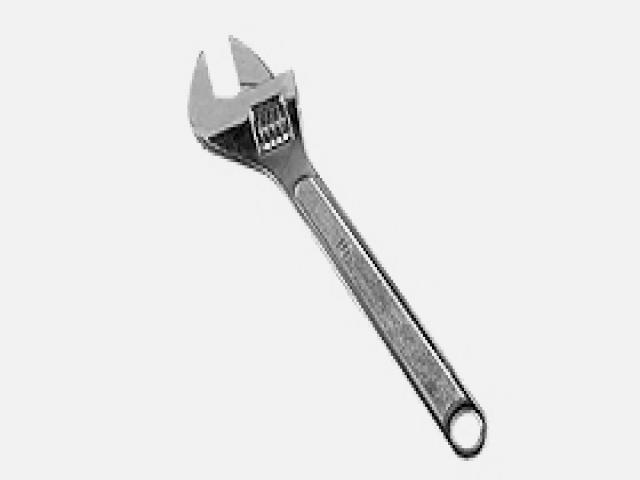Adjustable spanner: (189, 39, 486, 456)
